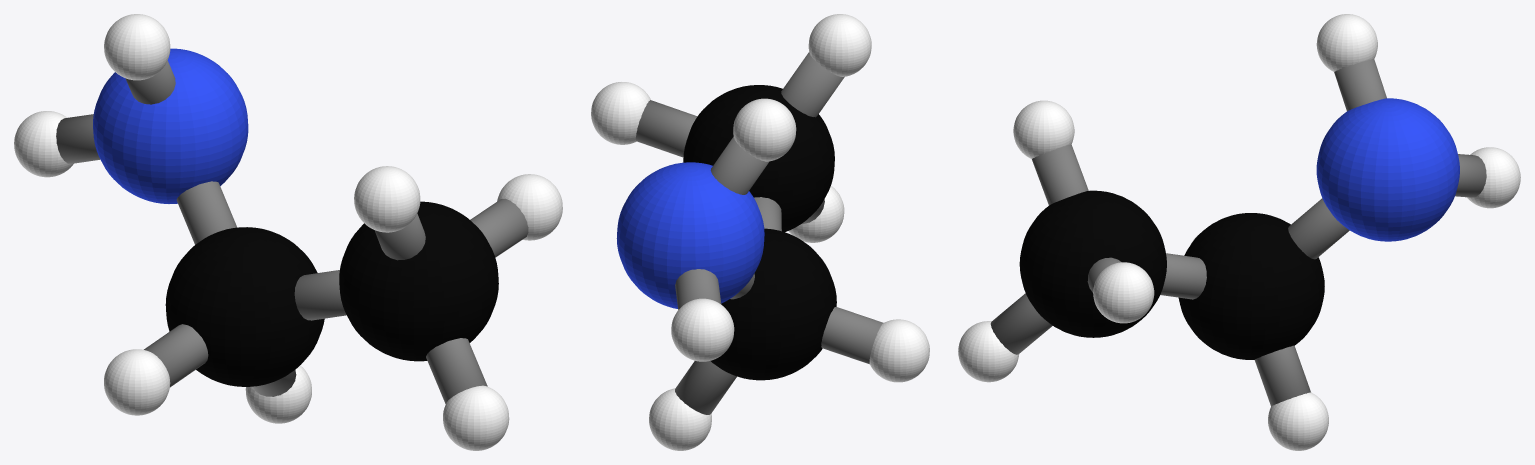
File: ETILAMINA.obj
The picture shows the model from 3 angles, left to right: view 1: azimuth 30°, elevation 25°; view 2: azimuth 150°, elevation 25°; view 3: azimuth 270°, elevation 25°; orthographic projection. The views are drawn at different scales.
Parts seen in each view (by area): view 1: Carbon_ball_Sphere.001, Hydrogen_ball_Sphere, Nitrogen_ball_Sphere.002, Stick_Cylinder.007_Cylinder.007, Stick_Cylinder.002_Cylinder.002, Stick_Cylinder.004_Cylinder.004, Stick_Cylinder.005_Cylinder.005, Stick_Cylinder.008_Cylinder.008, Stick_Cylinder_Cylinder, Stick_Cylinder.006_Cylinder.006, Stick_Cylinder.001_Cylinder.001, Stick_Cylinder.003_Cylinder.003; view 2: Carbon_ball_Sphere.001, Hydrogen_ball_Sphere, Nitrogen_ball_Sphere.002, Stick_Cylinder.004_Cylinder.004, Stick_Cylinder.008_Cylinder.008, Stick_Cylinder.006_Cylinder.006, Stick_Cylinder.003_Cylinder.003, Stick_Cylinder.001_Cylinder.001, Stick_Cylinder_Cylinder, Stick_Cylinder.005_Cylinder.005; view 3: Carbon_ball_Sphere.001, Nitrogen_ball_Sphere.002, Hydrogen_ball_Sphere, Stick_Cylinder.003_Cylinder.003, Stick_Cylinder.006_Cylinder.006, Stick_Cylinder.007_Cylinder.007, Stick_Cylinder.002_Cylinder.002, Stick_Cylinder.001_Cylinder.001, Stick_Cylinder.005_Cylinder.005, Stick_Cylinder_Cylinder.
Part boxes in pixels (left/top/right/bottom): Carbon_ball_Sphere.001: left=165, top=201, right=498, bottom=386; Hydrogen_ball_Sphere: left=14, top=14, right=562, bottom=450; Nitrogen_ball_Sphere.002: left=93, top=48, right=248, bottom=203; Stick_Cylinder.007_Cylinder.007: left=426, top=338, right=487, bottom=403; Stick_Cylinder.002_Cylinder.002: left=176, top=181, right=237, bottom=244; Stick_Cylinder.004_Cylinder.004: left=144, top=324, right=208, bottom=387; Stick_Cylinder.005_Cylinder.005: left=294, top=270, right=346, bottom=320; Stick_Cylinder.008_Cylinder.008: left=470, top=198, right=528, bottom=257; Stick_Cylinder_Cylinder: left=56, top=114, right=100, bottom=163; Stick_Cylinder.006_Cylinder.006: left=374, top=213, right=425, bottom=260; Stick_Cylinder.001_Cylinder.001: left=125, top=60, right=175, bottom=104; Stick_Cylinder.003_Cylinder.003: left=253, top=370, right=296, bottom=396; Carbon_ball_Sphere.001: left=683, top=85, right=836, bottom=380; Hydrogen_ball_Sphere: left=591, top=14, right=929, bottom=450; Nitrogen_ball_Sphere.002: left=616, top=162, right=764, bottom=308; Stick_Cylinder.004_Cylinder.004: left=821, top=307, right=883, bottom=364; Stick_Cylinder.008_Cylinder.008: left=635, top=100, right=697, bottom=157; Stick_Cylinder.006_Cylinder.006: left=781, top=52, right=844, bottom=117; Stick_Cylinder.003_Cylinder.003: left=675, top=361, right=736, bottom=414; Stick_Cylinder.001_Cylinder.001: left=710, top=136, right=769, bottom=194; Stick_Cylinder_Cylinder: left=675, top=269, right=721, bottom=309; Stick_Cylinder.005_Cylinder.005: left=754, top=197, right=781, bottom=231; Carbon_ball_Sphere.001: left=1019, top=190, right=1324, bottom=359; Nitrogen_ball_Sphere.002: left=1316, top=98, right=1459, bottom=241; Hydrogen_ball_Sphere: left=958, top=14, right=1520, bottom=450; Stick_Cylinder.003_Cylinder.003: left=1254, top=345, right=1310, bottom=406; Stick_Cylinder.006_Cylinder.006: left=1032, top=144, right=1088, bottom=205; Stick_Cylinder.007_Cylinder.007: left=990, top=293, right=1052, bottom=354; Stick_Cylinder.002_Cylinder.002: left=1288, top=198, right=1349, bottom=259; Stick_Cylinder.001_Cylinder.001: left=1334, top=59, right=1386, bottom=111; Stick_Cylinder.005_Cylinder.005: left=1160, top=253, right=1206, bottom=299; Stick_Cylinder_Cylinder: left=1455, top=154, right=1486, bottom=197.
Size of the model in its own units: 3.99 by 3.94 by 5.29.
